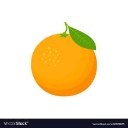orange: (29, 20, 99, 98)
